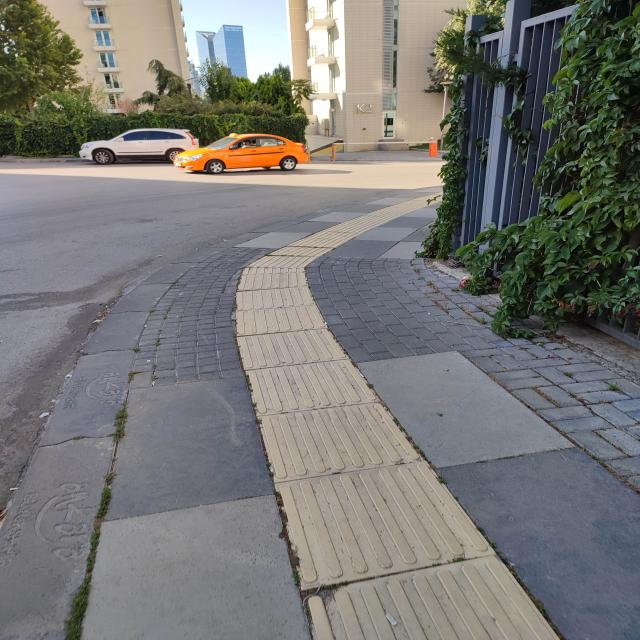sidewalk: (3, 191, 638, 640)
